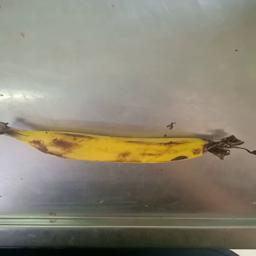Banana Semifresh: (4, 112, 250, 175)
